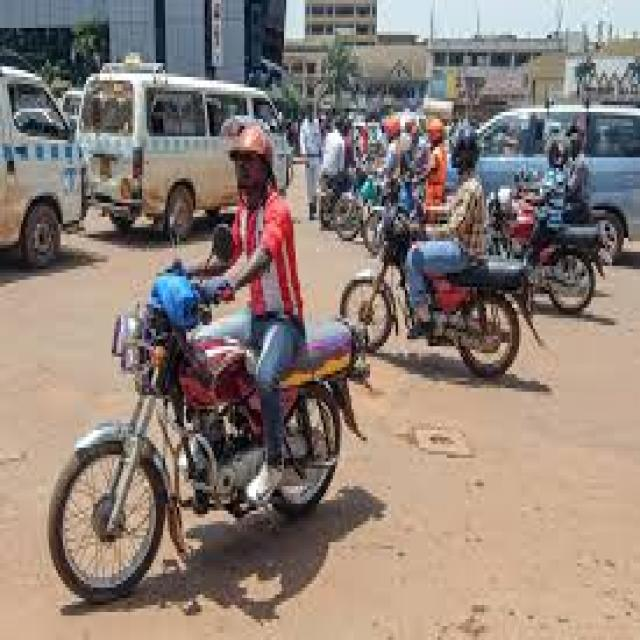bodaboda: (29, 188, 362, 626), (330, 205, 561, 388)
